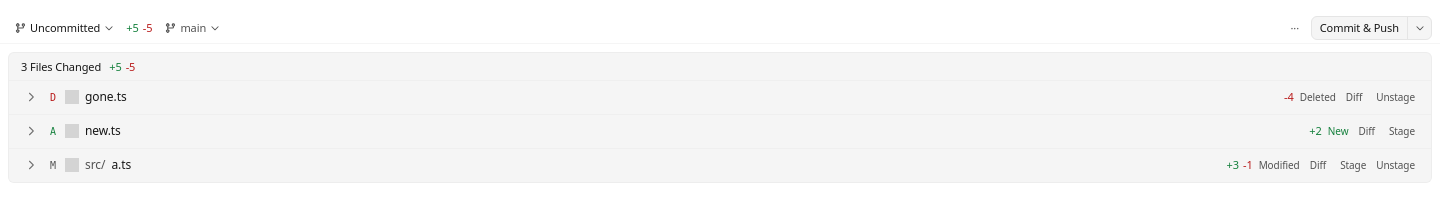
Test case: ChangesPanel › after a successful commit opens that commit’s files
Step 1. Click the button "Commit & Push" → click(1359, 28), box 1312,16 -> 1407,38
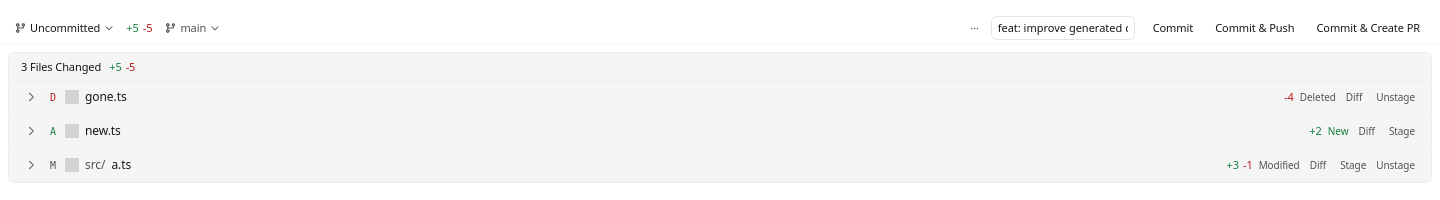
Step 2. Replace the text in the field named "Commit message" with "ship it" → (1063, 28), box 991,16 -> 1135,40
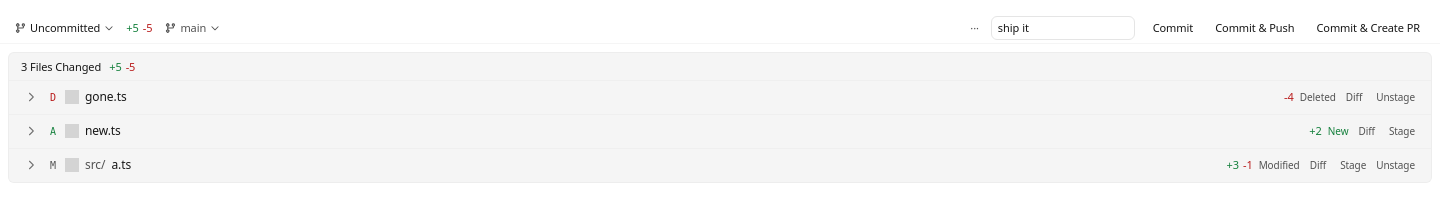
Step 3. Click the button "Commit & Push" → click(1255, 28), box 1207,16 -> 1302,40
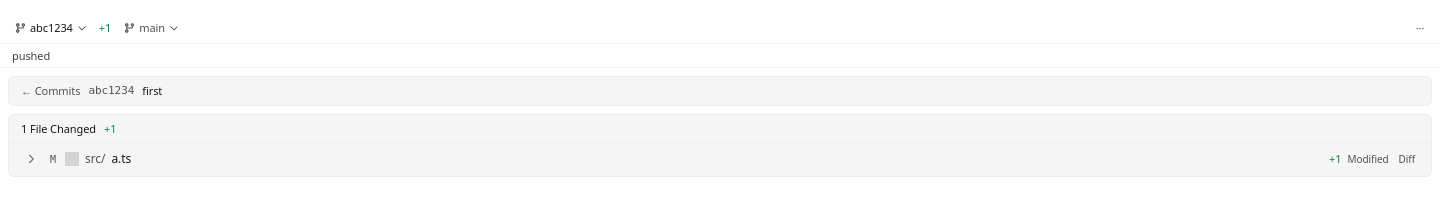
Expected: the 1st text "abc1234" is shown, 30,22 -> 73,33
Expected: the text "1 File Changed+1" is shown, 9,115 -> 1431,143
